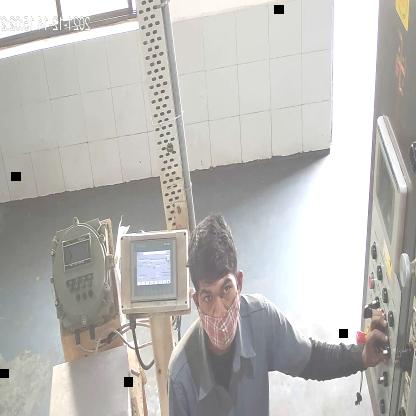no_goggles: (199, 278, 234, 312)
